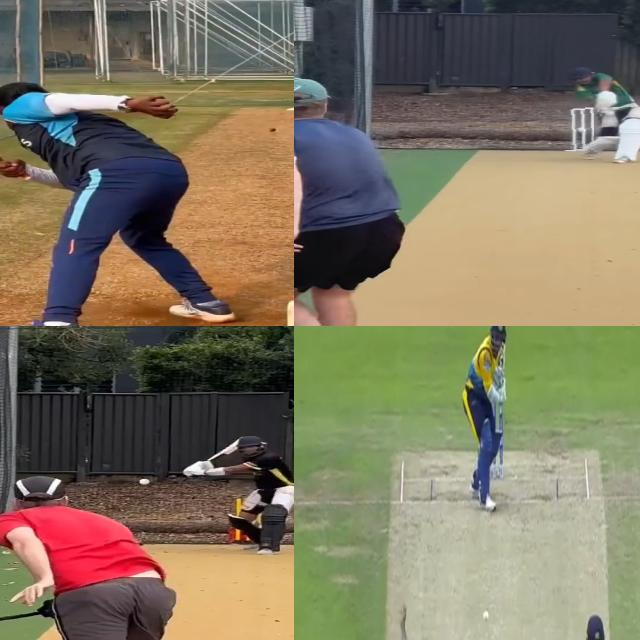Cricket ball: (137, 477, 153, 485), (482, 607, 490, 623), (575, 126, 588, 134), (269, 127, 276, 132)
Stumps: (566, 107, 594, 154)
